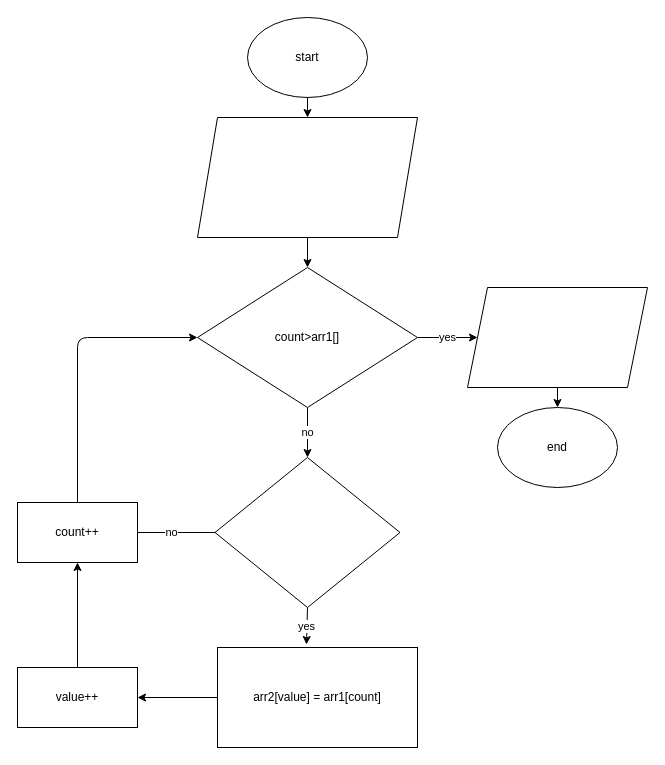
Some shapes in this 665 by 765 pixel diagram are drawn without their labels. Here are the shapes that lost their labels. From the top down, the box of each, then its label:
(196, 116, 418, 238): arr1[]-{1,2,3,4} arr2[]-{arr1.lenght] count = 0 value = 0
(466, 286, 648, 388): arr2[]
(214, 456, 400, 608): arr1[count.lenght]<=3
